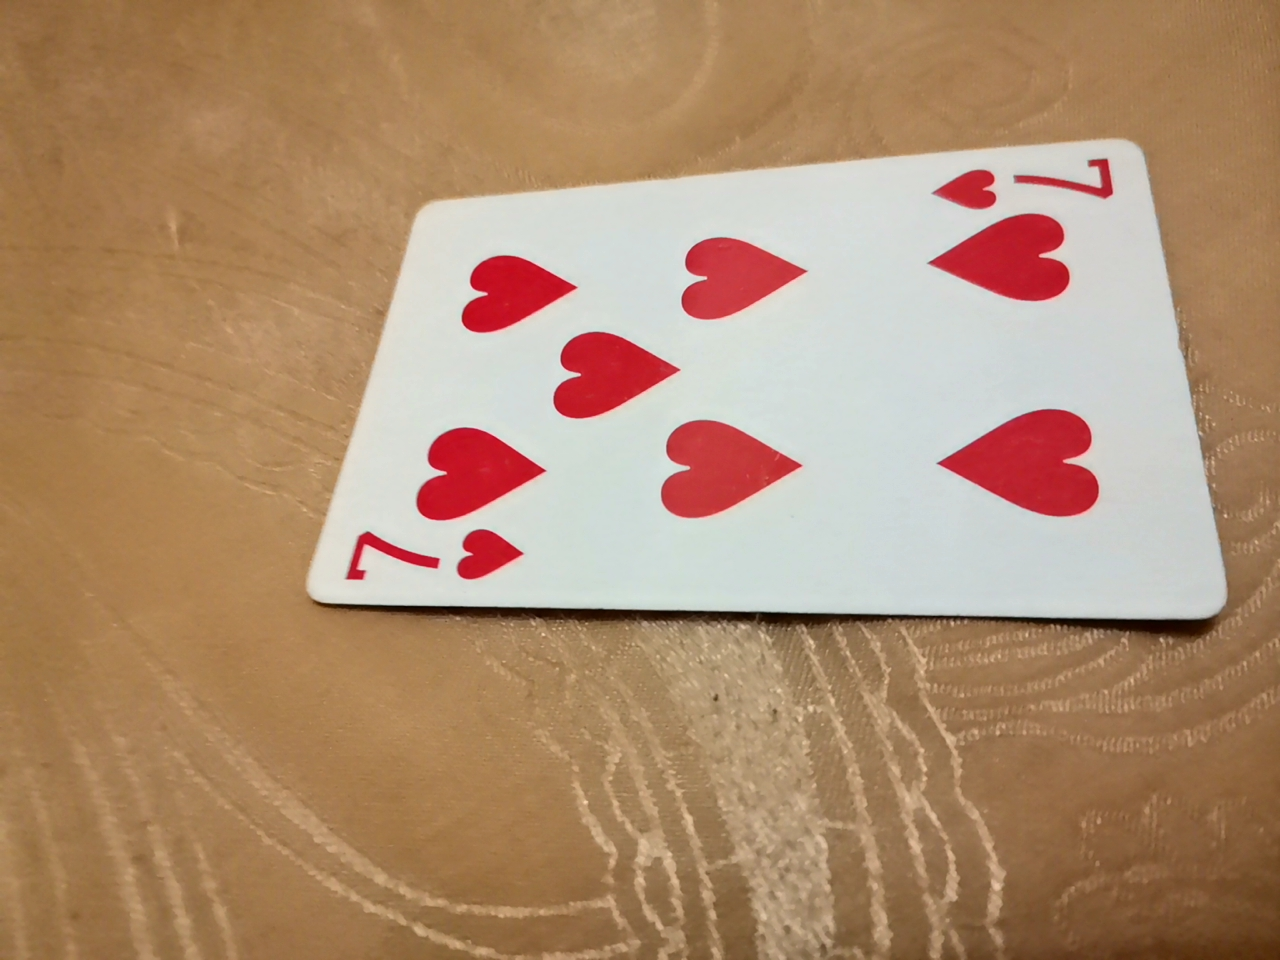hx 7: (314, 169, 1157, 700)
